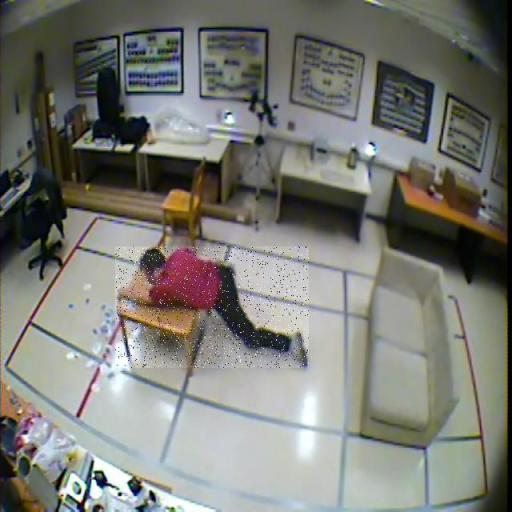Fall: (115, 246, 309, 368)
